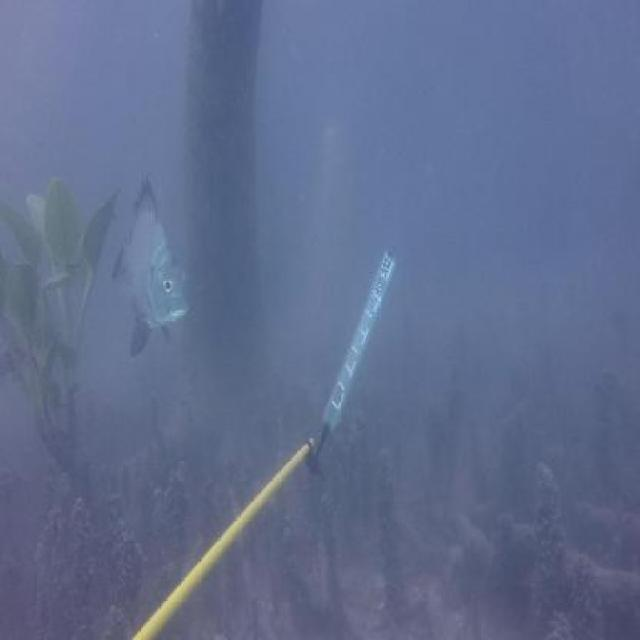acanthopagrus_palmaris: (112, 177, 188, 358)
